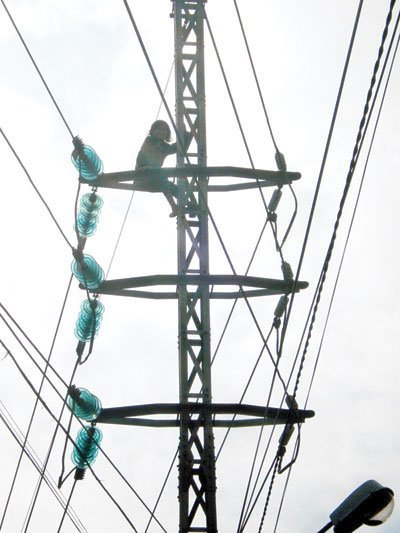infiltrator: (129, 115, 197, 221)
